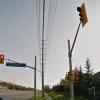Traffic light: (71, 0, 97, 35)
